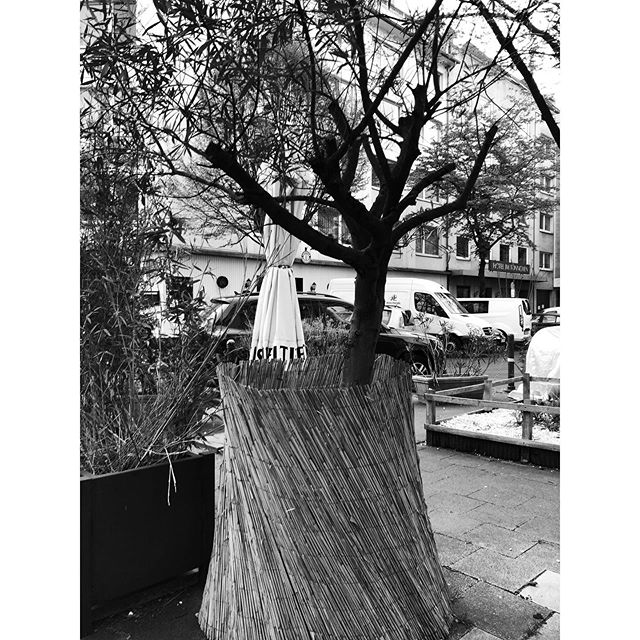building: (193, 1, 551, 319)
tree: (205, 1, 521, 410)
